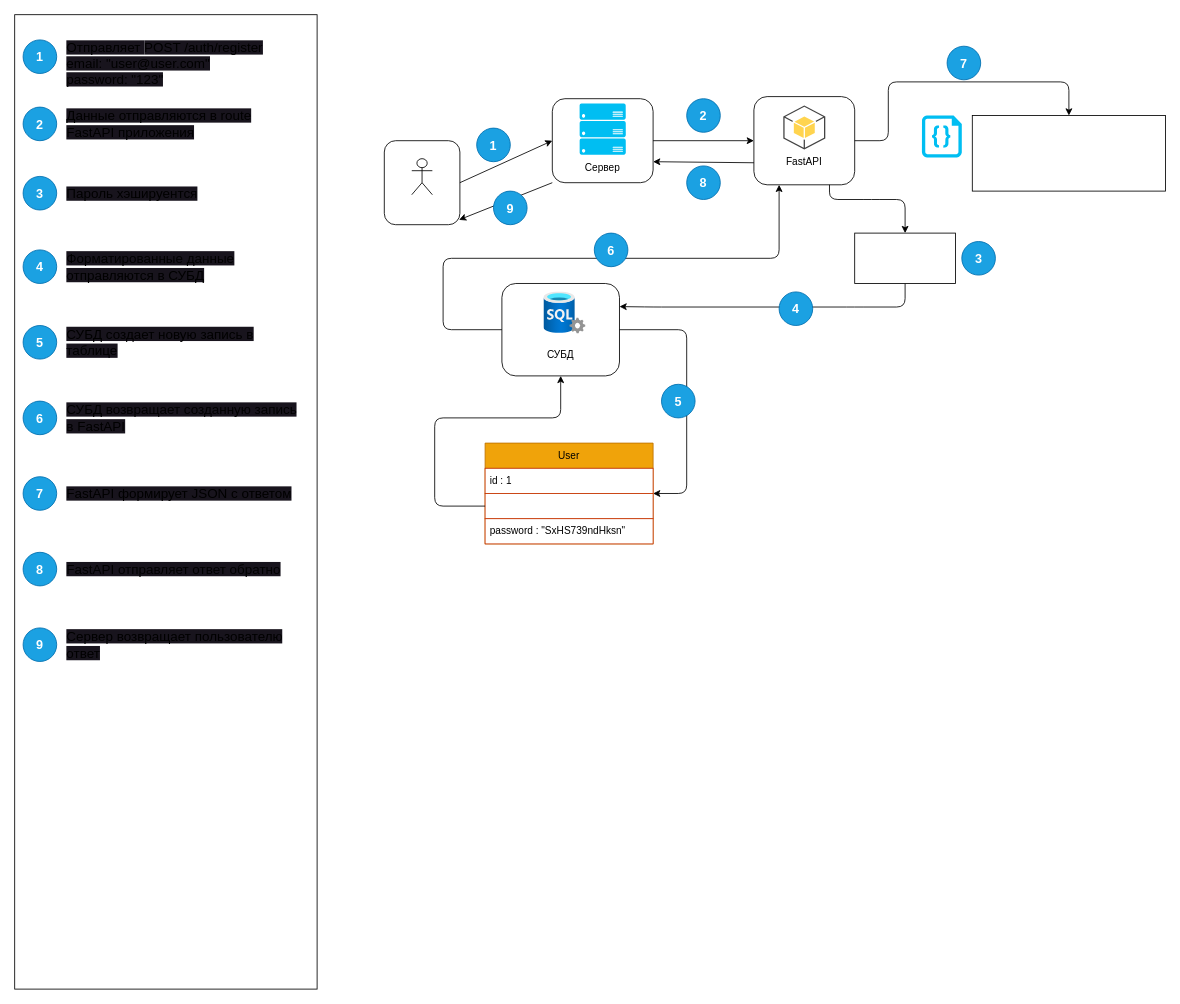
Some shapes in this 1180 by 1004 pixel diagram are drawn without their labels. Each missing label, with the centre of its shape:
email : "user@user.com": [568,506]
{ "id" : 1, "email": "user@user.com" }: [1068,153]
Пароль хэшируется: [905,258]
Пользователь: [421,176]
